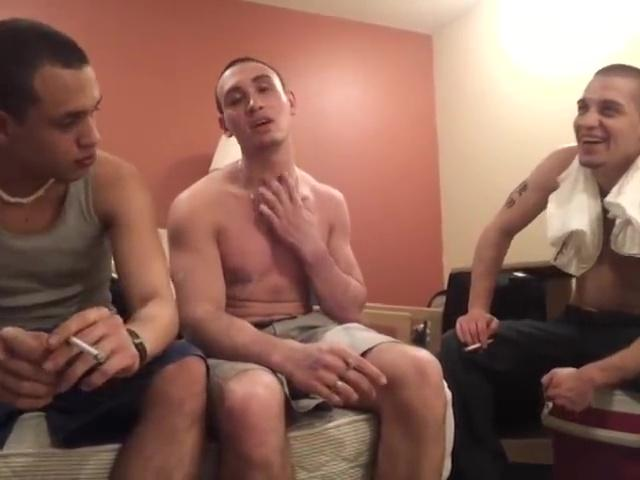cigarette: (67, 332, 108, 363), (463, 338, 494, 353)
